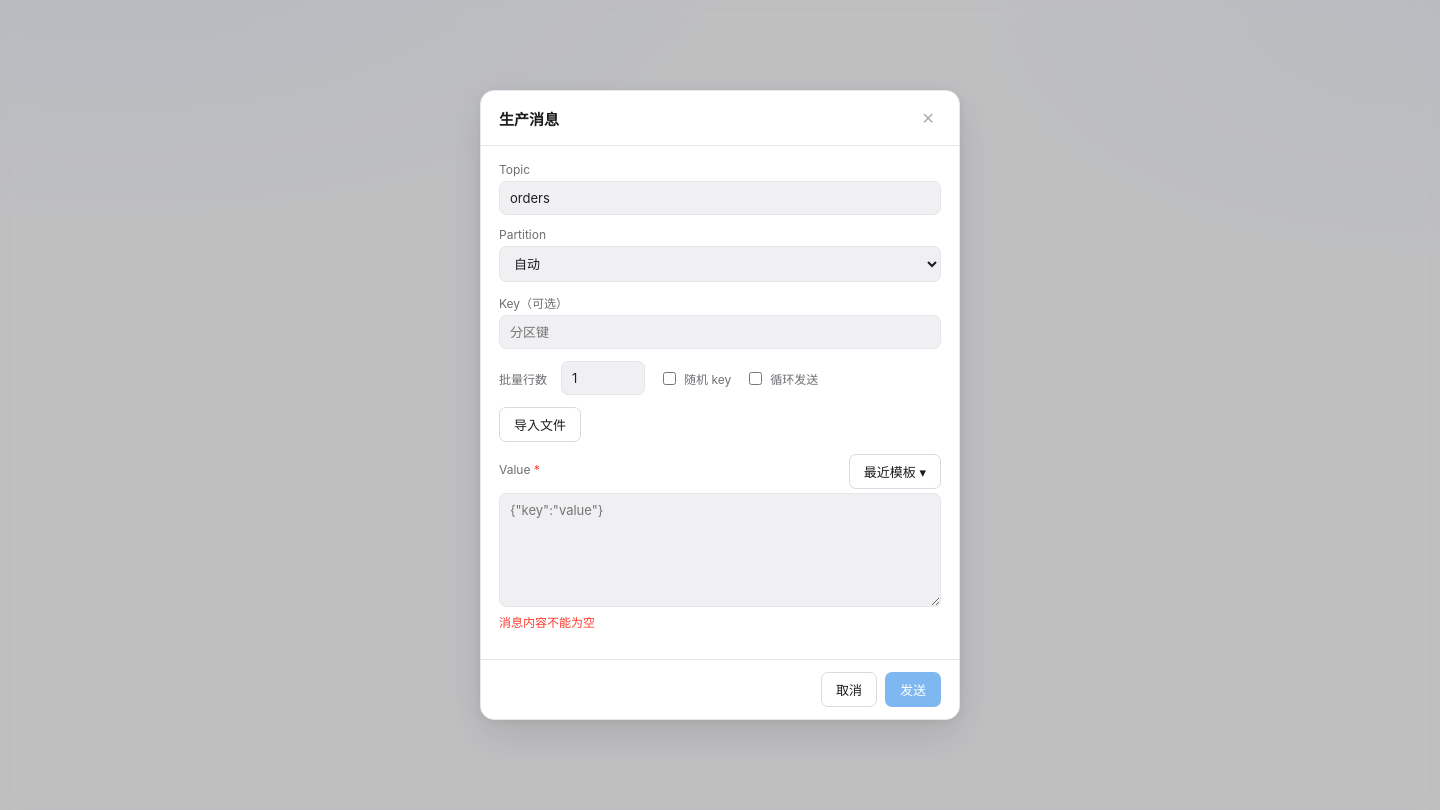
Test: ProducerPanel › surfaces produce errors
The width and height of the screenshot is (1440, 810).
Step 1. Type "v" into the text box with test id "input-value" → coordinates (720, 550), box [499,493,941,607]
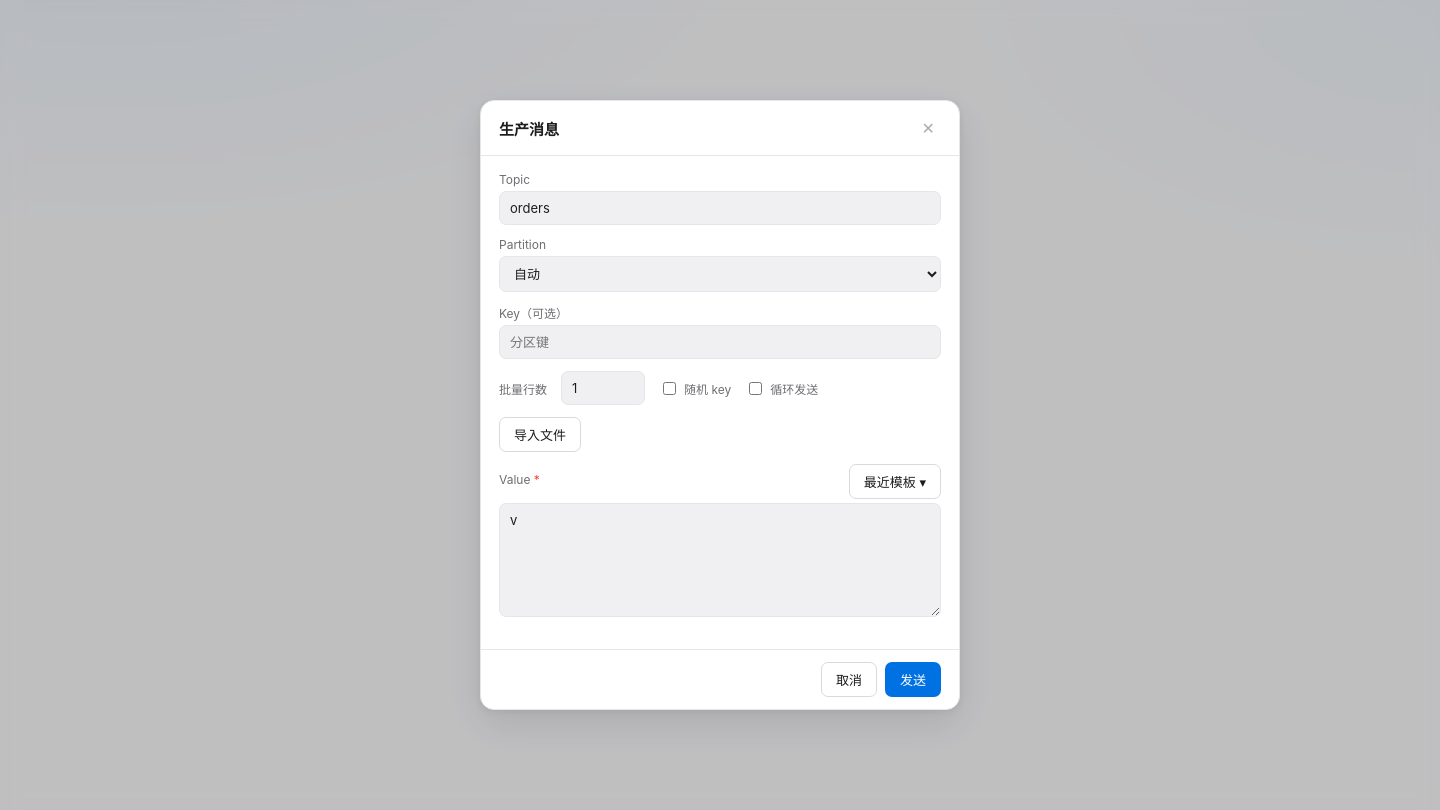
Step 2. Click the button with test id "btn-produce" → coordinates (913, 680), box [885,662,941,697]
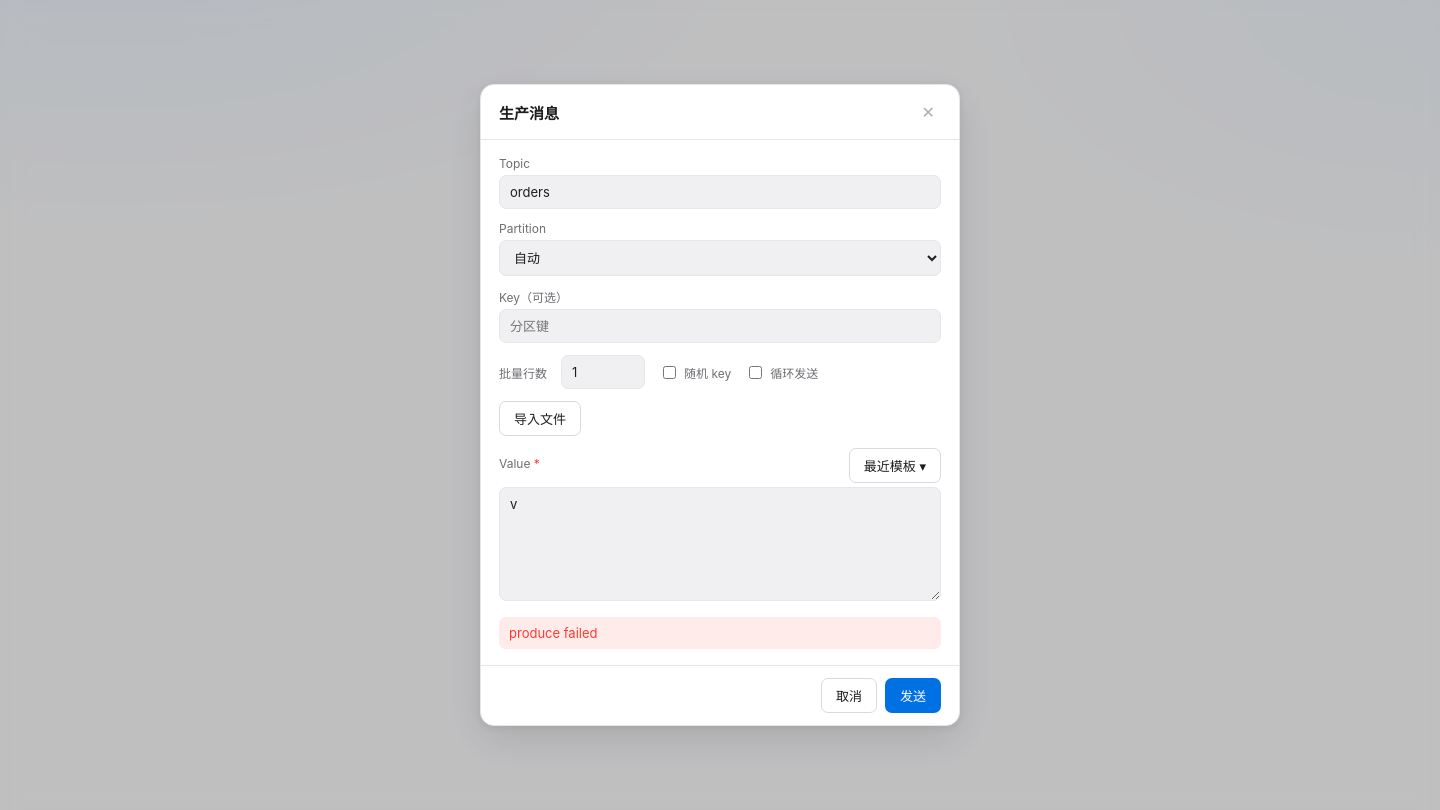
Now the text with test id "produce-error" reads "produce failed", box [509,625,598,641]
